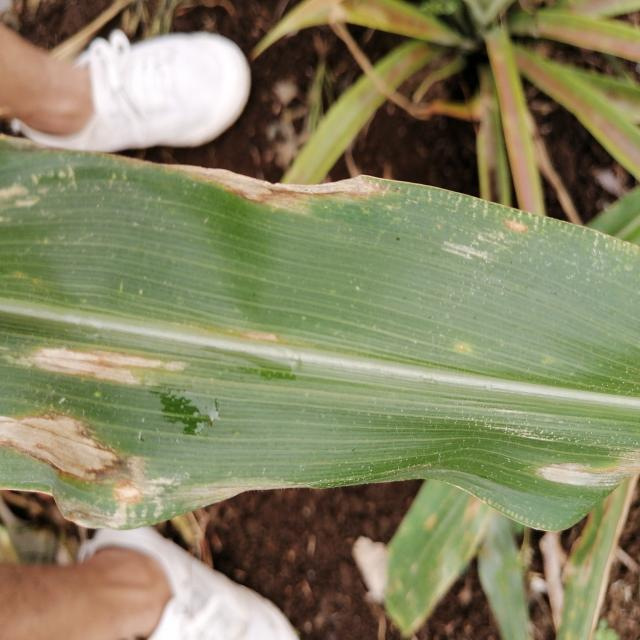Corn_Leaf_Blight: (0, 136, 640, 529)
